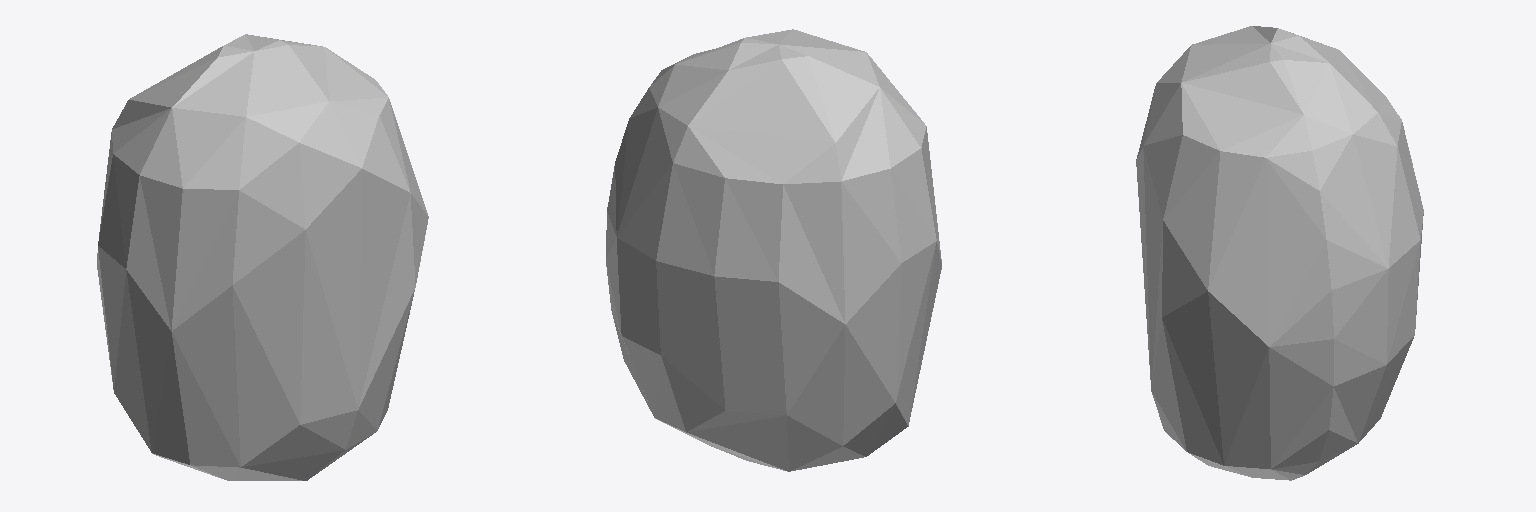
File: potato.obj
The picture shows the model from 3 angles: view 1: azimuth 30°, elevation 25°; view 2: azimuth 150°, elevation 25°; view 3: azimuth 270°, elevation 25°; orthographic projection.
Visible parts, largest first — view 1: PotatoeWhole Potatoe1; view 2: PotatoeWhole Potatoe1; view 3: PotatoeWhole Potatoe1.
Part boxes in pixels (x1,y1,x2,y2): PotatoeWhole Potatoe1: (97, 34, 428, 480); PotatoeWhole Potatoe1: (606, 29, 941, 471); PotatoeWhole Potatoe1: (1136, 26, 1423, 480).
Size of the model in its own units: 0.2683 by 0.3601 by 0.224.